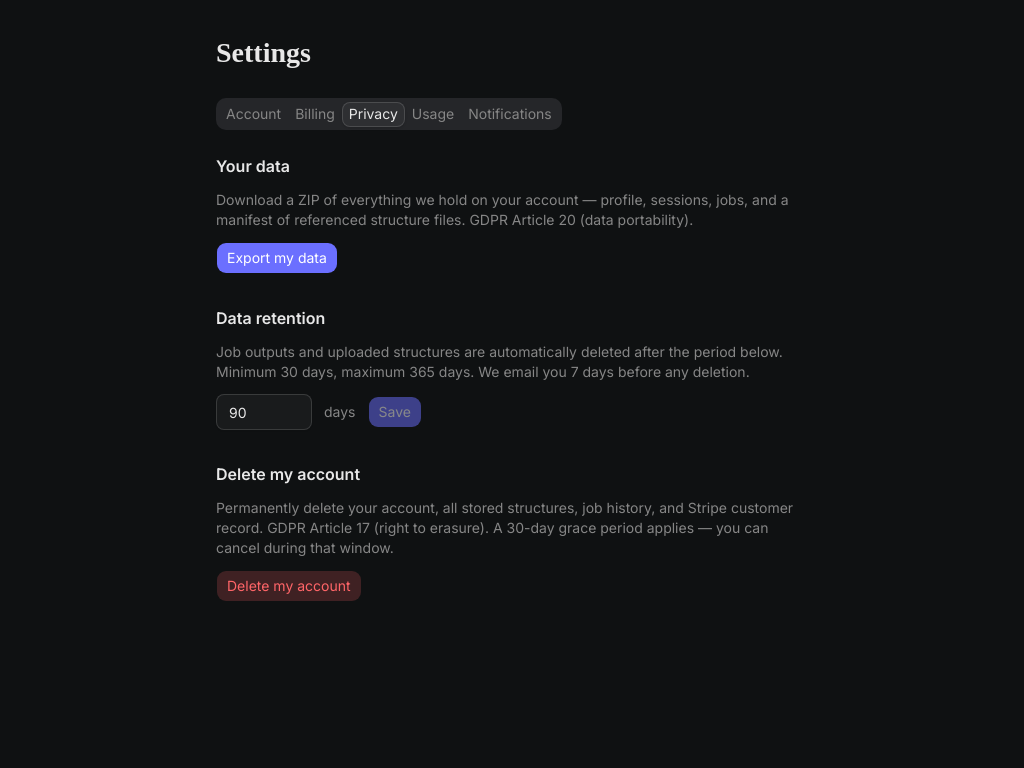
Test: SettingsPage Privacy tab (Plan 10-04) › submit is disabled until the exact phrase is typed
Expected: the heading "Your data" is shown, [216, 156, 290, 176]
Click the button "Delete my account" at point(289, 586), box [216, 570, 362, 602]
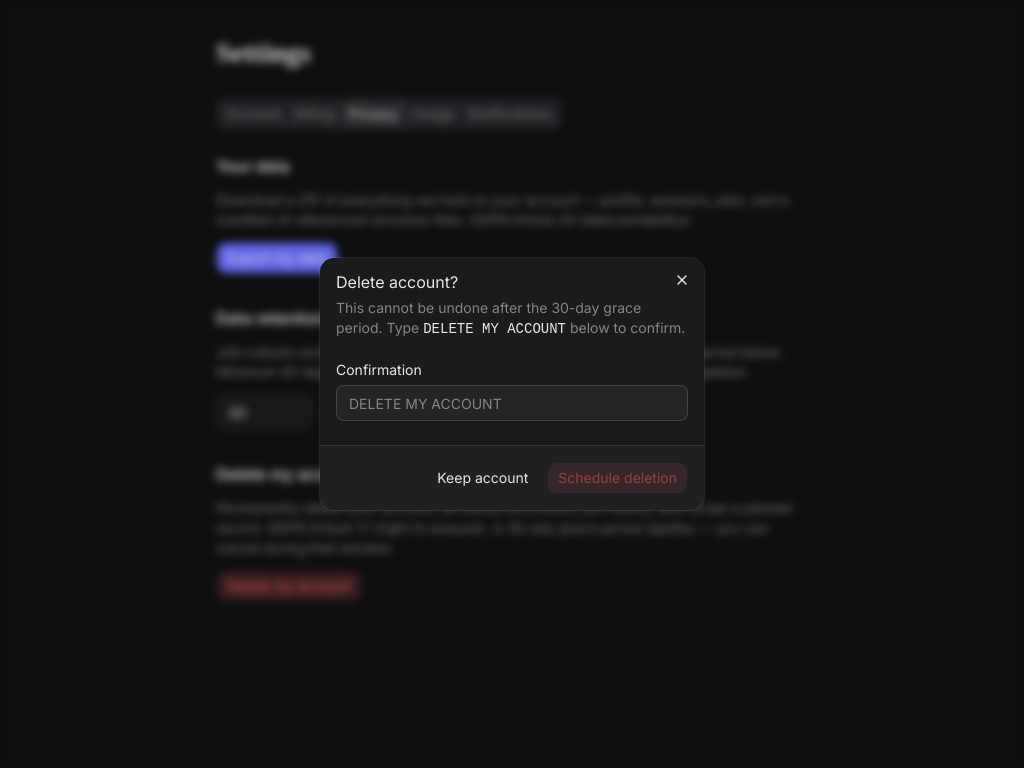
// Wrong casing — submit stays disabled.
Type "delete my account" into the field labelled "Confirmation" at point(512, 403), box [336, 385, 688, 421]
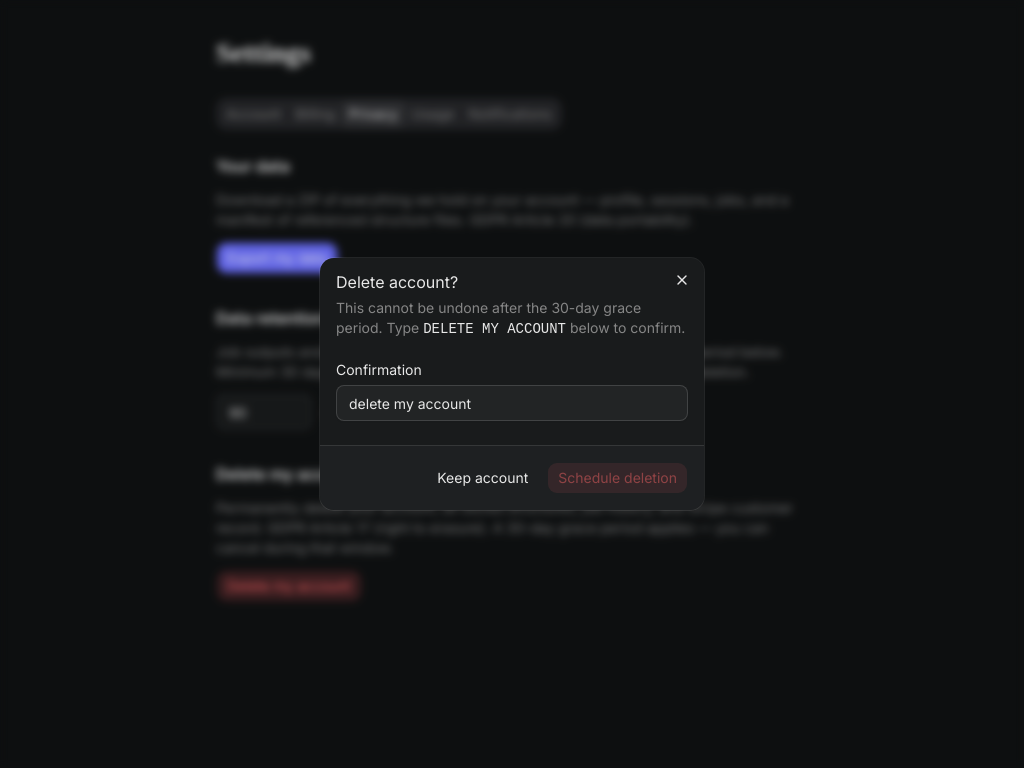
Expected: the button "Schedule deletion" is disabled, [547, 462, 688, 494]
// Exact phrase — submit enabled.
Replace the text in the field labelled "Confirmation" with "DELETE MY ACCOUNT" at point(512, 403), box [336, 385, 688, 421]
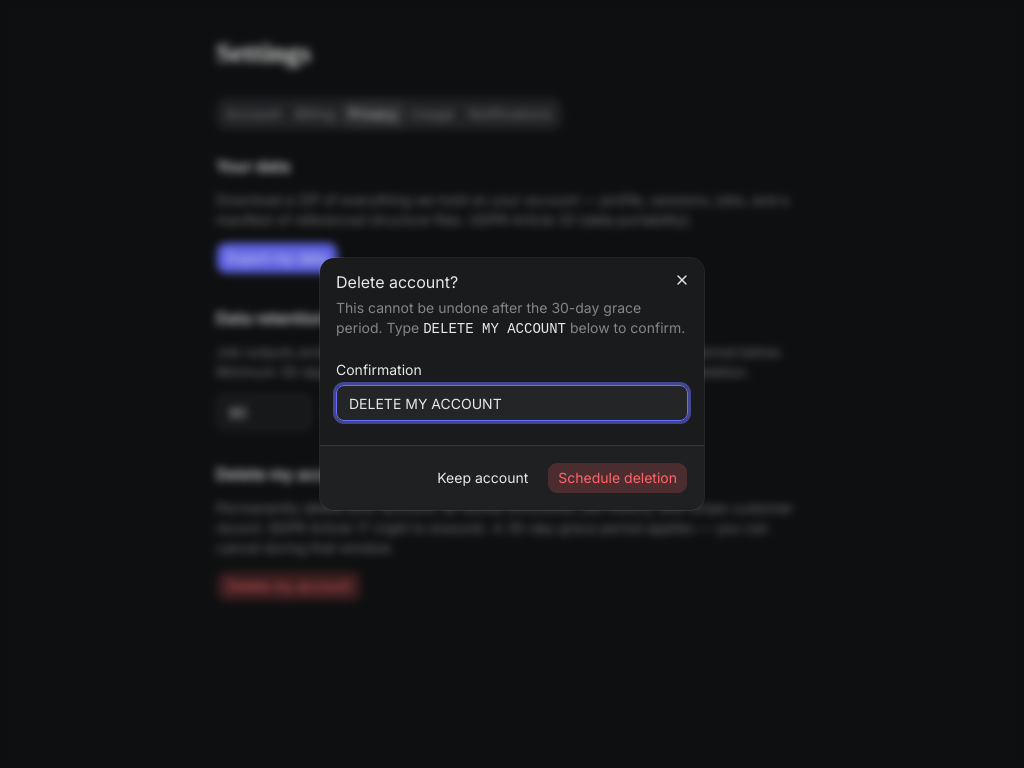
Expected: the button "Schedule deletion" is enabled, [547, 462, 688, 494]
